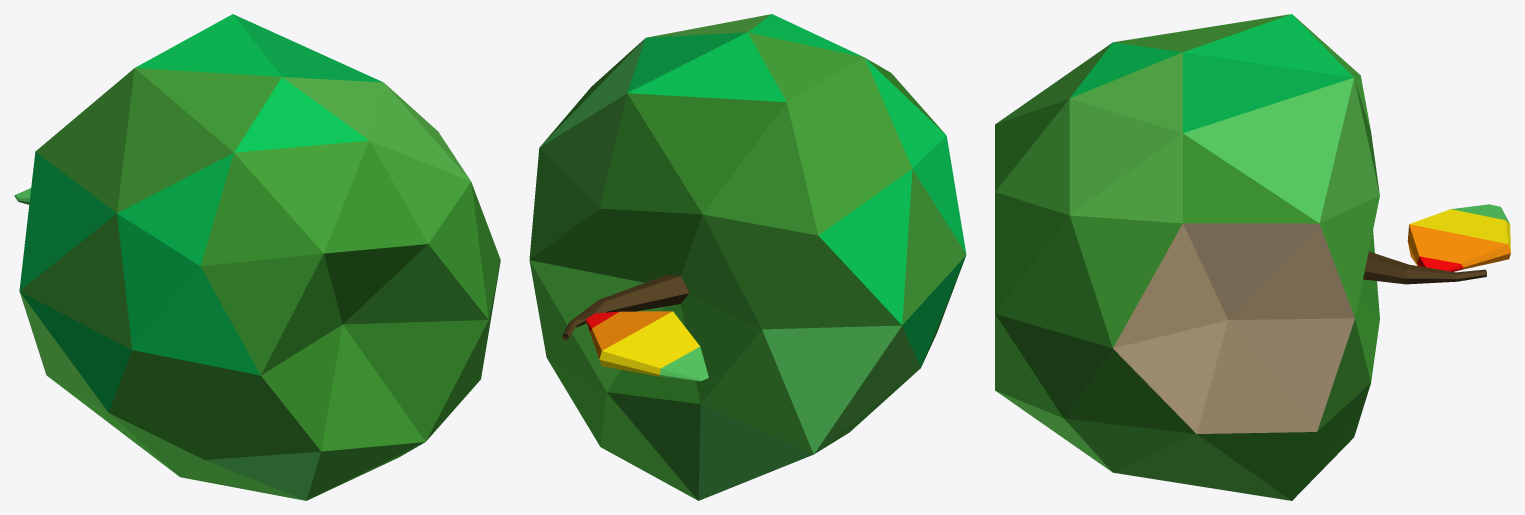
Rendered from apple.fbx.
3 views of the same model, side by side, from view 1: azimuth 30°, elevation 25°; view 2: azimuth 150°, elevation 25°; view 3: azimuth 270°, elevation 25° (orthographic).
Visible parts, largest first — view 1: Icosphere; view 2: Icosphere; view 3: Icosphere.
Boxes of the visible parts, bbox=[...] form: Icosphere: bbox=[14, 14, 500, 500]; Icosphere: bbox=[529, 14, 966, 500]; Icosphere: bbox=[995, 14, 1510, 500].
Bounding box in the file's own units: 340 × 335 × 382.
